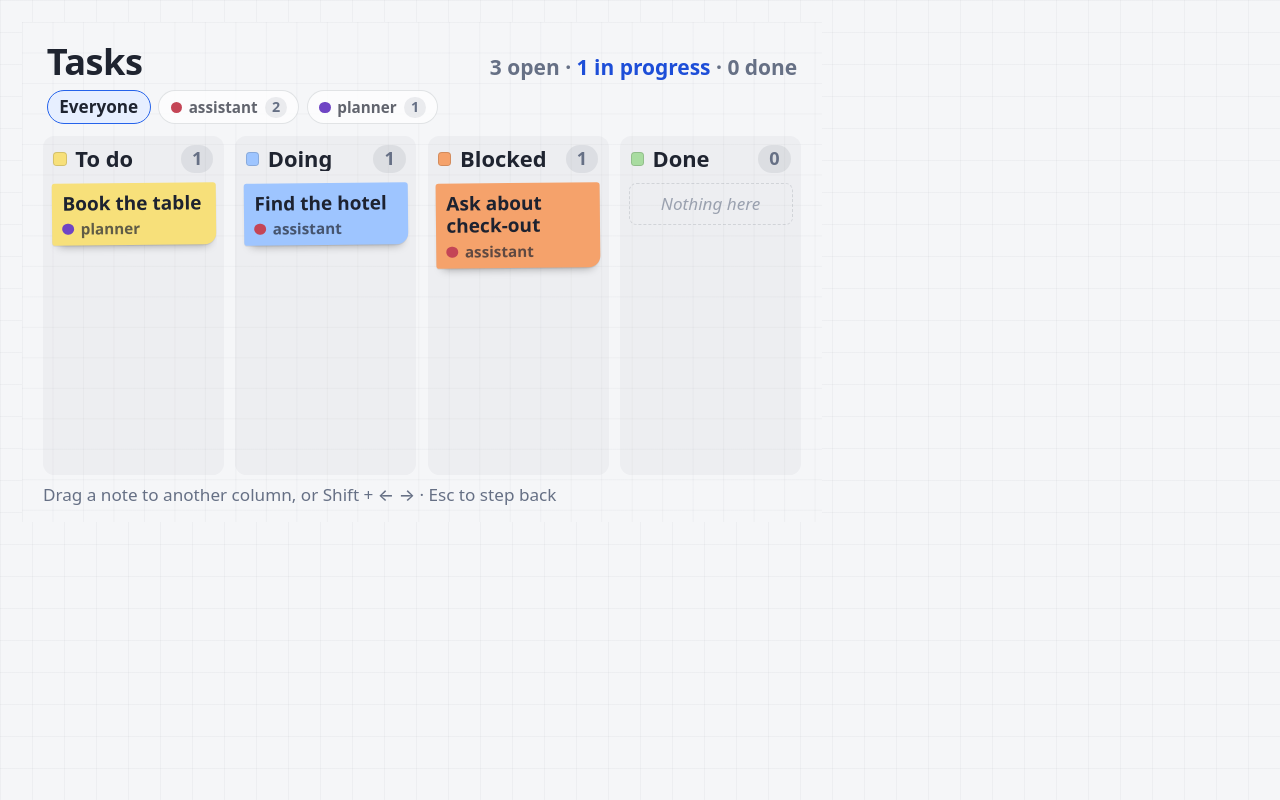
Test case: the board › moves a note dragged to another column, and a drag is no click on it
Press the mouse on the button with class "sf-note" showing "Book the table planner" at point(133, 214), box [51, 182, 216, 246]
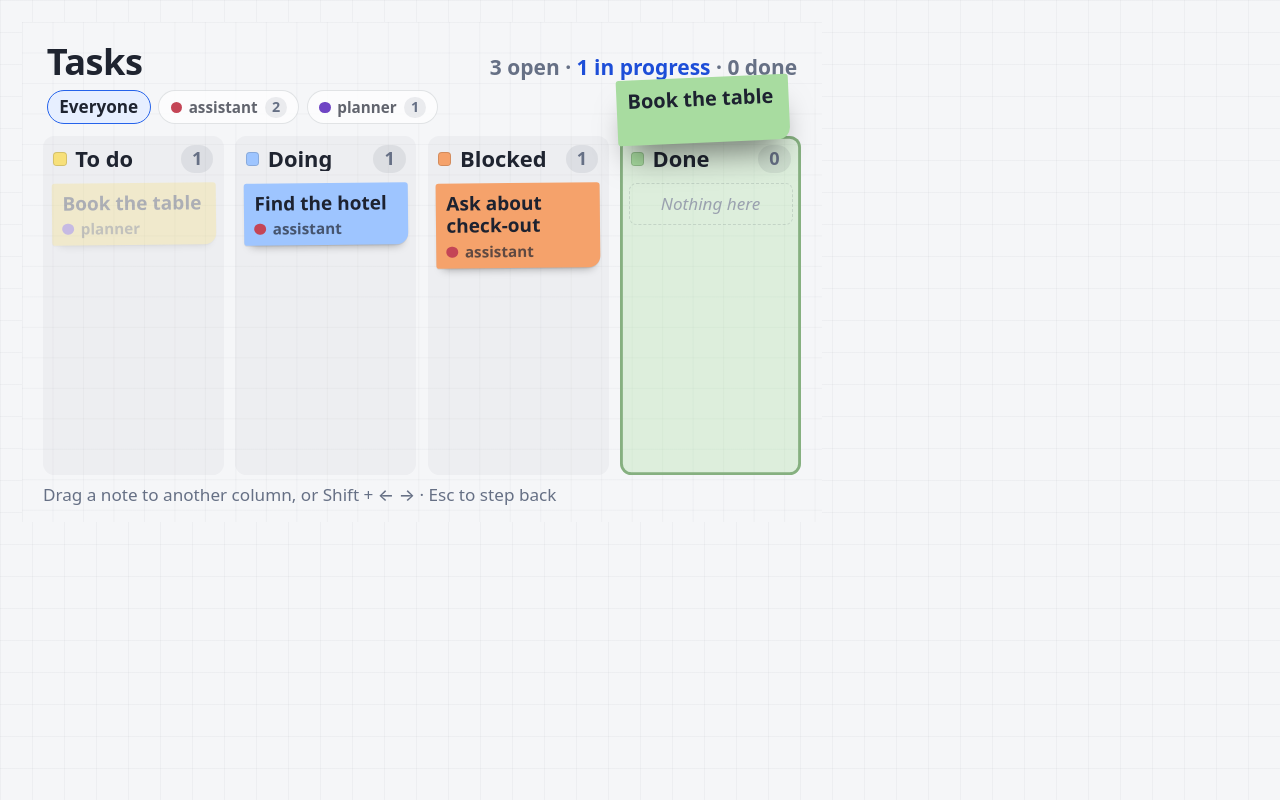
Now the element with class "sf-note-ghost" is shown, box [616, 74, 790, 146]
Click the button with class "sf-note" showing "Book the table planner".
click(133, 214)  # box [51, 182, 216, 246]
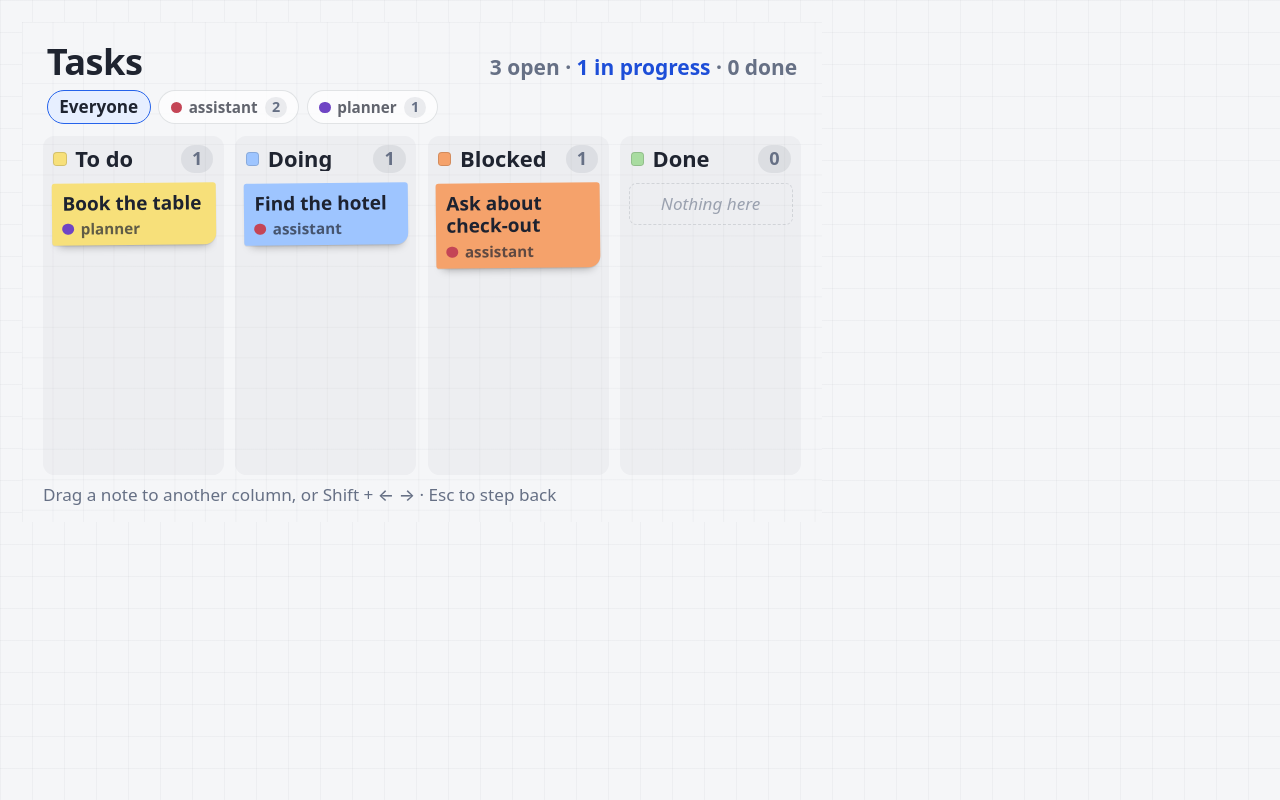
Now the element with class "sf-note-ghost" is gone
